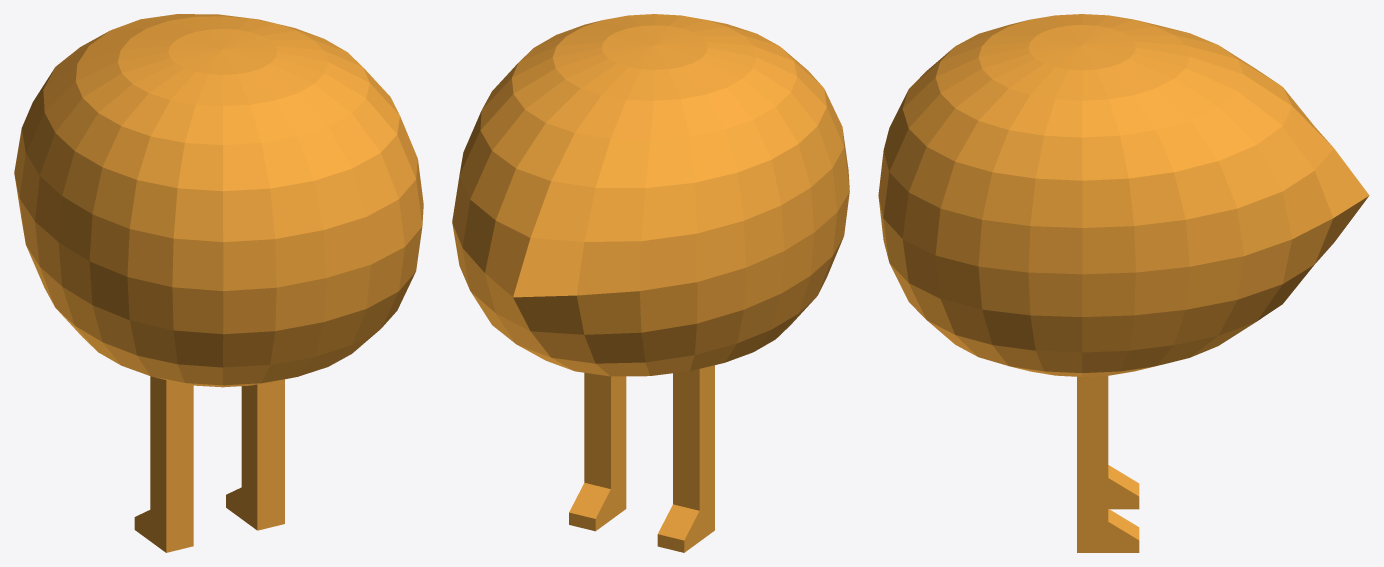
File: popcorn-kernel-1.fbx
3 renders of one model, left to right at view 1: azimuth 30°, elevation 25°; view 2: azimuth 150°, elevation 25°; view 3: azimuth 270°, elevation 25°, orthographic. The views are drawn at different scales.
Visible parts, largest first — view 1: kernel1; view 2: kernel1; view 3: kernel1.
Part boxes in pixels (x1,y1,x2,y2): kernel1: (14,14,423,552); kernel1: (452,14,849,552); kernel1: (878,14,1369,552).
Bounding box in the file's own units: 180 × 255 × 237.
